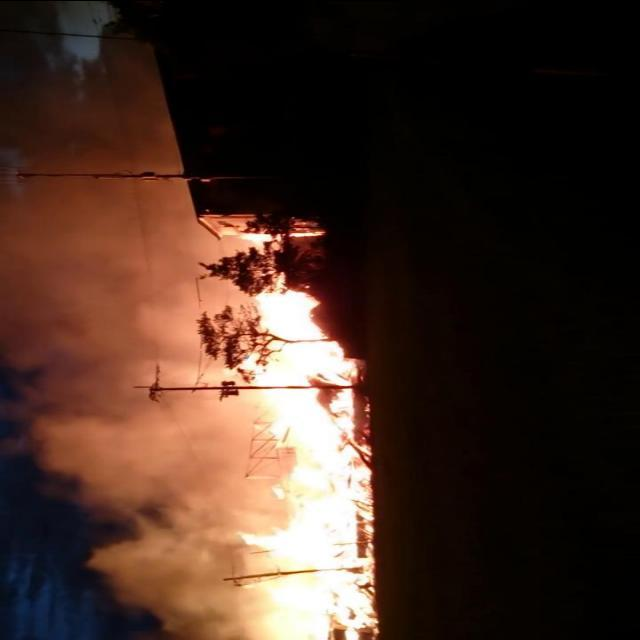Fire: (225, 272, 372, 638), (236, 229, 324, 244)
